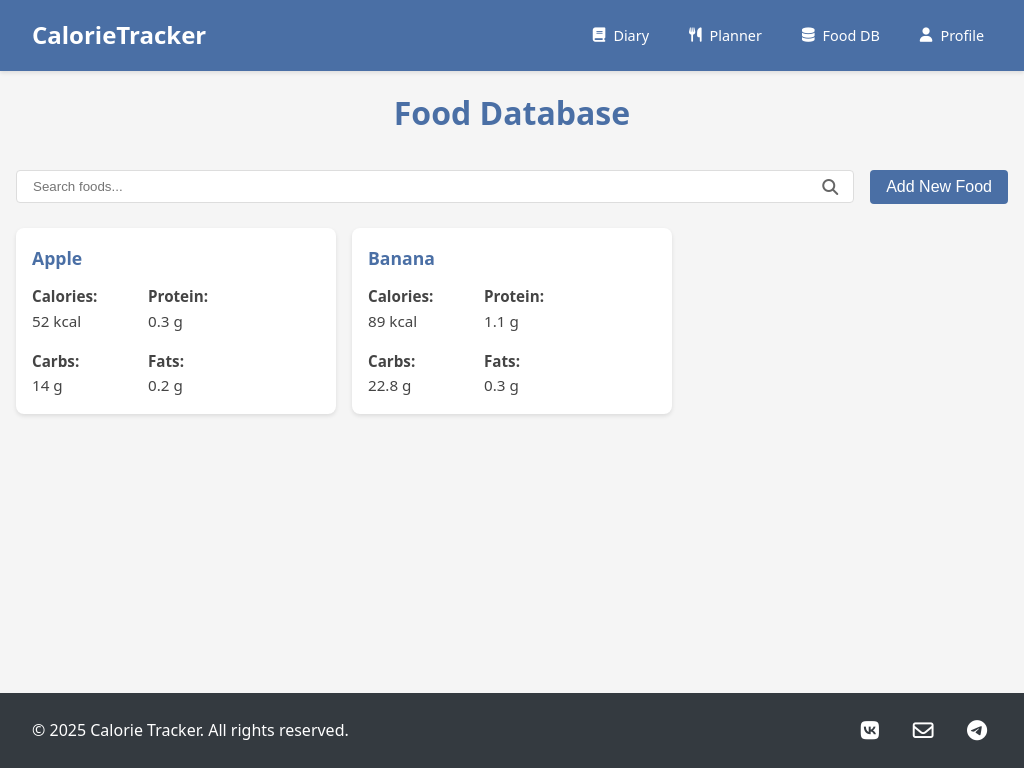
Test: Food Database Page › opens modal and adds a new food item
This screenshot has width=1024, height=768.
Click the button "Add New Food".
click(939, 187)  # box 870,170 -> 1008,204
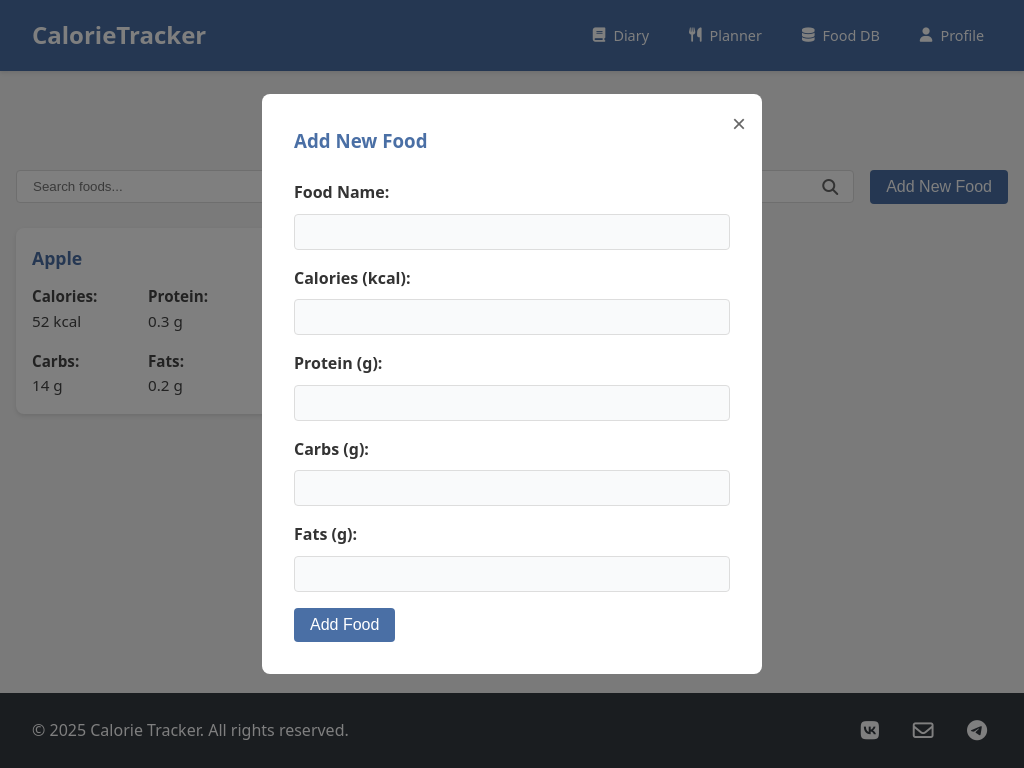
Type "Orange" into the field named "name".
click(512, 232); type("Orange")  # box 294,214 -> 730,250
Type "47" into the number field named "calories" below "Calories (kcal):".
click(512, 317); type("47")  # box 294,299 -> 730,335
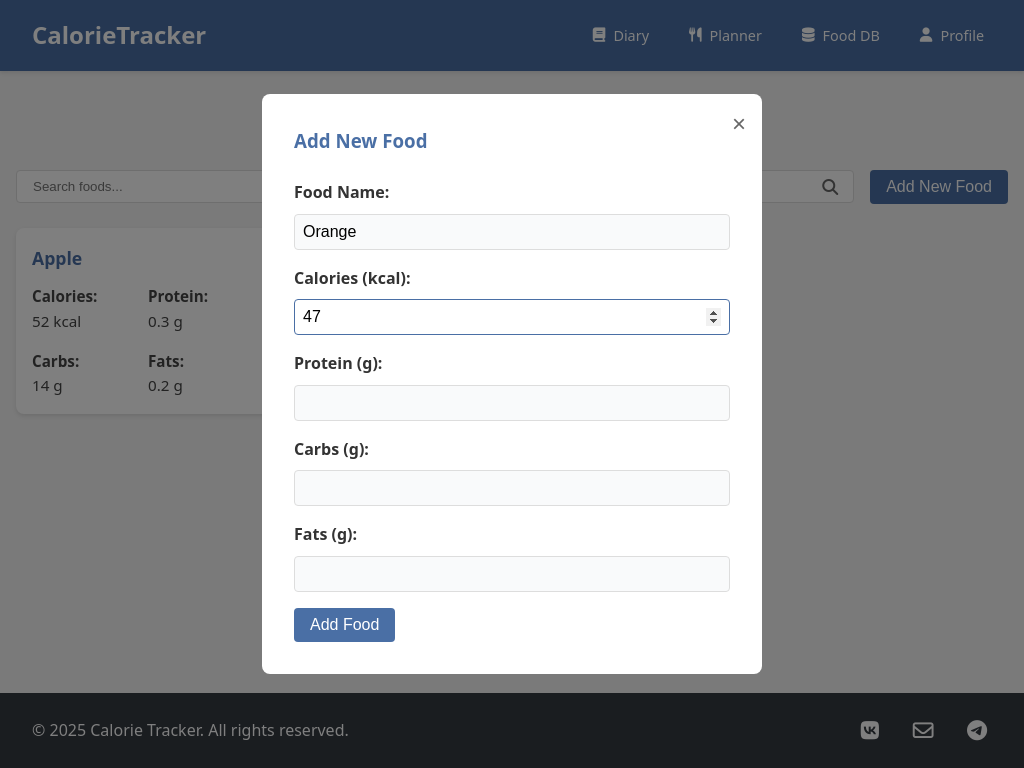
Type "0.9" into the number field named "protein" below "Protein (g):".
click(512, 403); type("0.9")  # box 294,385 -> 730,421
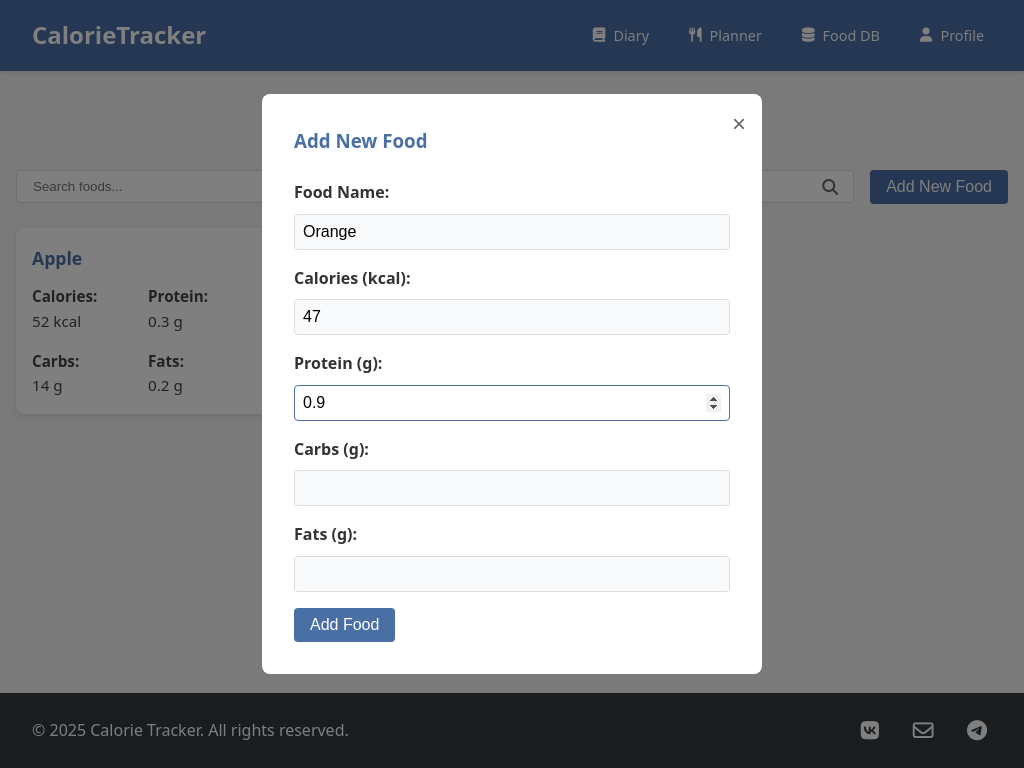
Type "12" into the number field named "carbs" below "Carbs (g):".
click(512, 488); type("12")  # box 294,470 -> 730,506
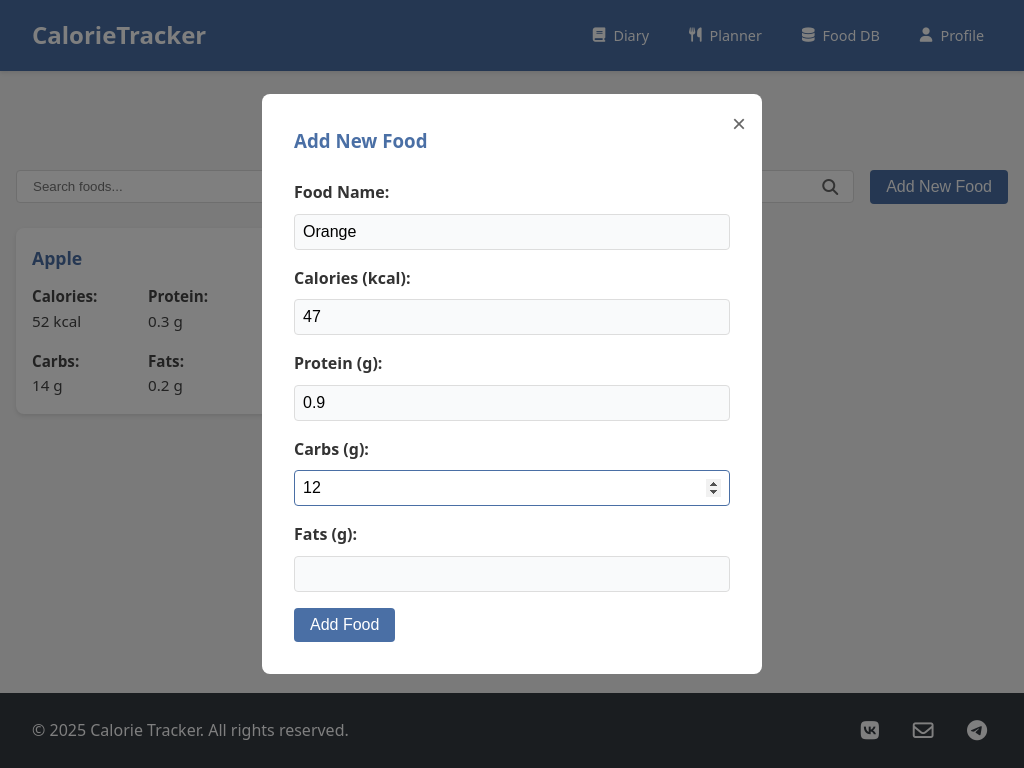
Type "0.1" into the number field named "fats" below "Fats (g):".
click(512, 574); type("0.1")  # box 294,556 -> 730,592
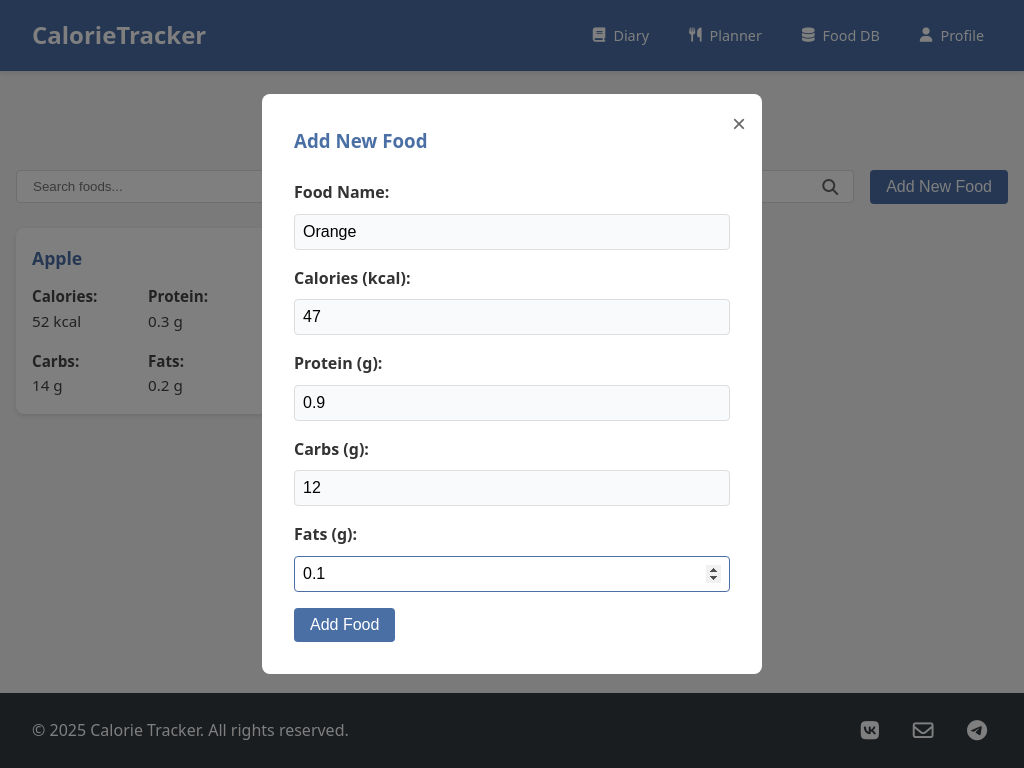
Click the button "Add Food".
click(345, 625)  # box 294,608 -> 395,642
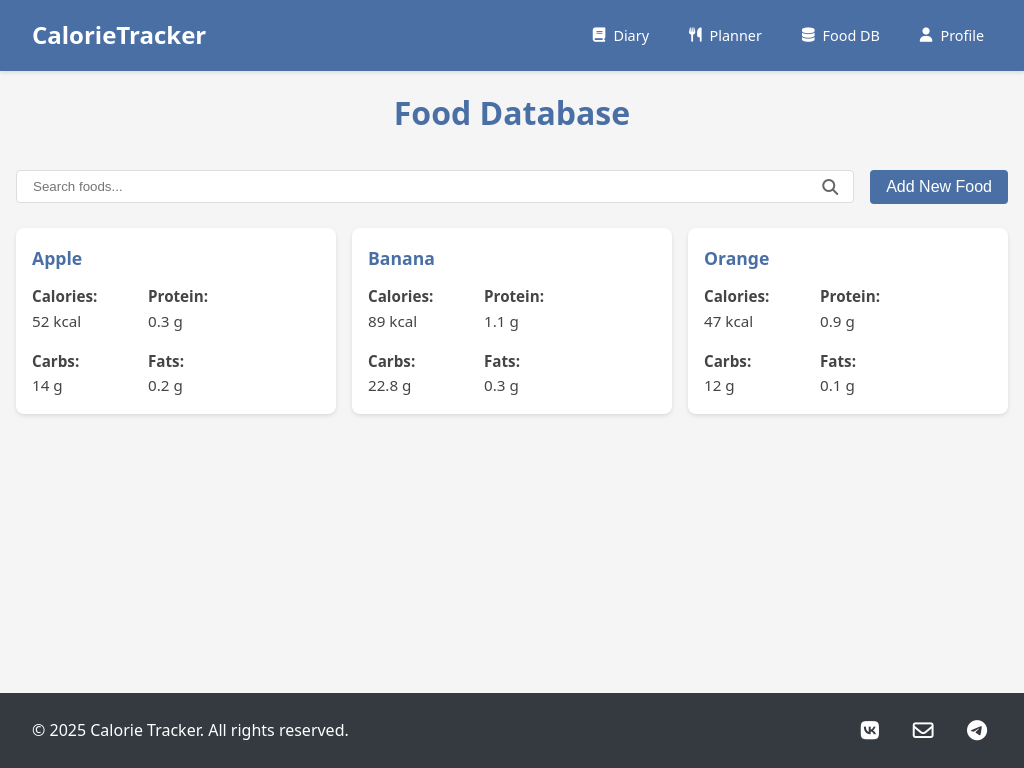
expect the text "Orange" is shown: met, box 704,246 -> 769,270
